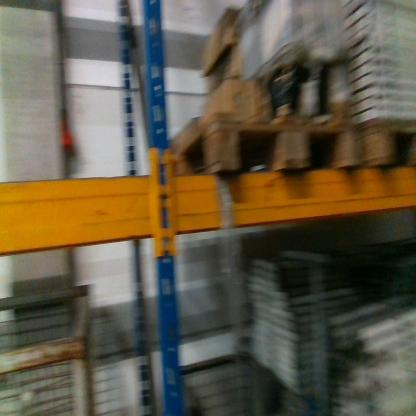pallet: (149, 97, 368, 178), (366, 104, 414, 170)
stillage: (239, 237, 415, 410), (1, 275, 106, 411)
